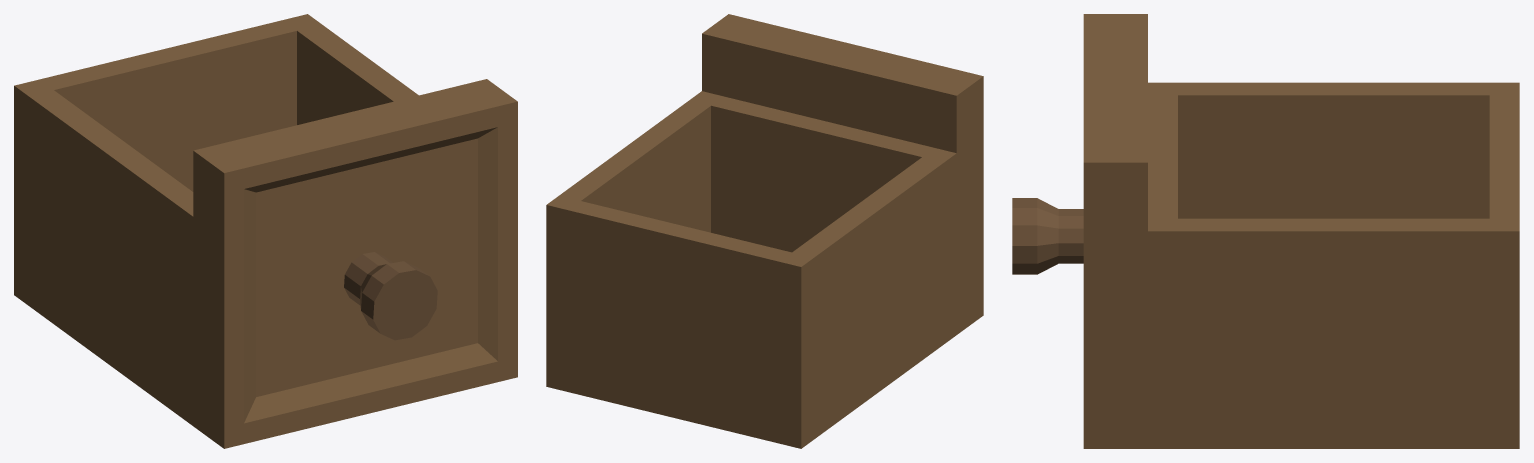
The model's file is SFHW_Table_1_Cabinet.fbx.
The picture shows the model from 3 angles, left to right: view 1: azimuth 30°, elevation 25°; view 2: azimuth 150°, elevation 25°; view 3: azimuth 270°, elevation 25°; orthographic projection. The views are drawn at different scales.
Parts seen in each view (by area): view 1: SFHW_Table_1_Cabinet; view 2: SFHW_Table_1_Cabinet; view 3: SFHW_Table_1_Cabinet.
Part boxes in pixels (x1,y1,x2,y2): SFHW_Table_1_Cabinet: [14, 14, 517, 448]; SFHW_Table_1_Cabinet: [546, 14, 983, 448]; SFHW_Table_1_Cabinet: [1012, 14, 1519, 448].
Size of the model in its own units: 24.64 by 22.11 by 35.53.
